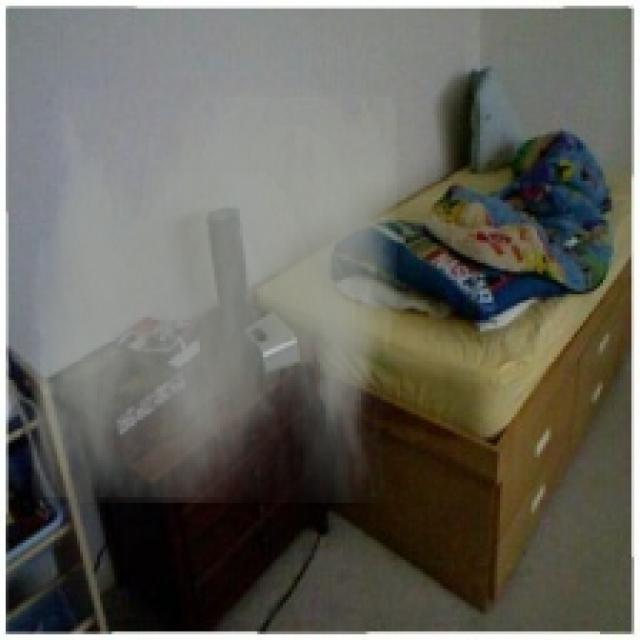smoke: (32, 88, 397, 503)
